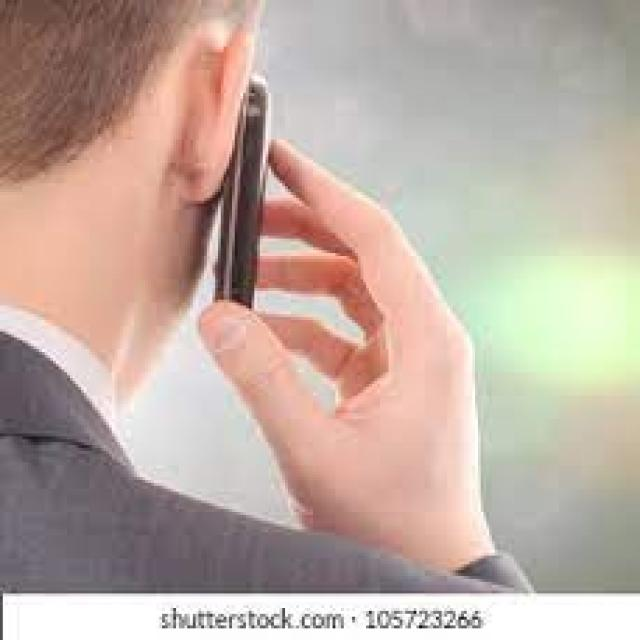phone: (223, 72, 277, 327)
